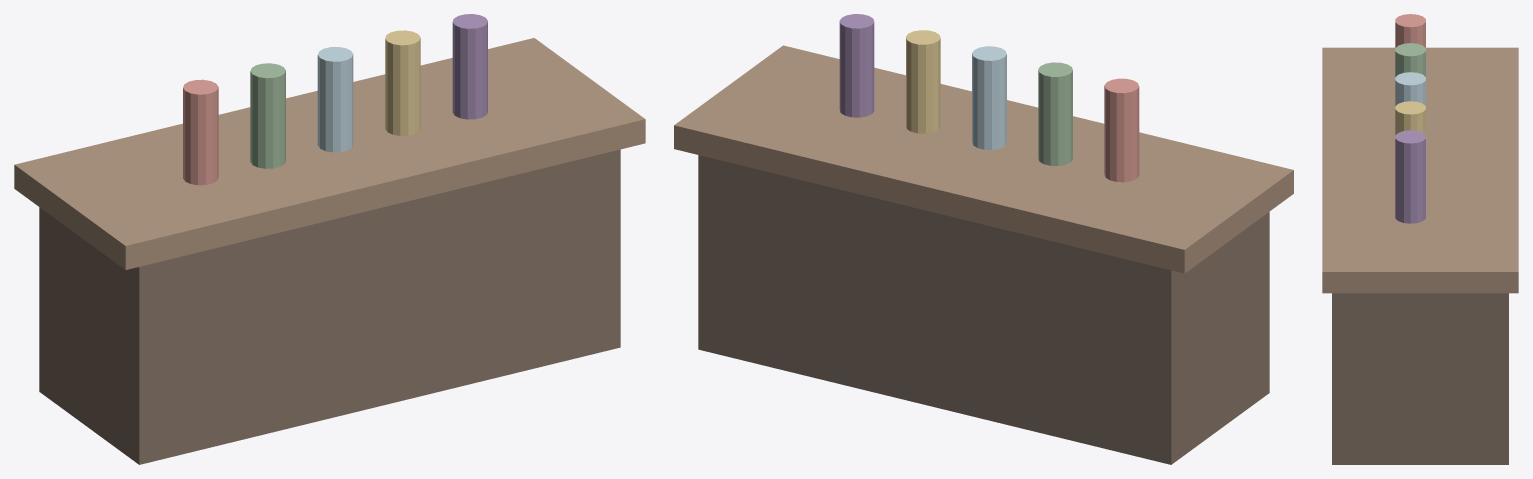
The model's file is mixology_bar.glb.
3 views of the same model, side by side, from view 1: azimuth 30°, elevation 25°; view 2: azimuth 150°, elevation 25°; view 3: azimuth 270°, elevation 25° (orthographic). The views are drawn at different scales.
Visible parts, largest first — view 1: part_00, part_01, part_04, part_05, part_02, part_03, part_06; view 2: part_00, part_01, part_02, part_06, part_04, part_03, part_05; view 3: part_01, part_00, part_06, part_04, part_02, part_03, part_05.
Boxes of the visible parts, x1=… form: part_00: x1=39, y1=149, x2=620, y2=464; part_01: x1=14, y1=38, x2=645, y2=269; part_04: x1=317, y1=47, x2=353, y2=152; part_05: x1=385, y1=30, x2=420, y2=135; part_02: x1=183, y1=79, x2=218, y2=185; part_03: x1=250, y1=63, x2=285, y2=168; part_06: x1=452, y1=14, x2=487, y2=119; part_00: x1=698, y1=155, x2=1269, y2=464; part_01: x1=674, y1=45, x2=1293, y2=273; part_02: x1=1104, y1=78, x2=1139, y2=182; part_06: x1=839, y1=14, x2=874, y2=117; part_04: x1=972, y1=46, x2=1006, y2=149; part_03: x1=1038, y1=62, x2=1072, y2=165; part_05: x1=906, y1=30, x2=940, y2=133; part_01: x1=1322, y1=47, x2=1518, y2=293; part_00: x1=1332, y1=293, x2=1508, y2=464; part_06: x1=1395, y1=130, x2=1425, y2=223; part_04: x1=1395, y1=72, x2=1425, y2=105; part_02: x1=1395, y1=14, x2=1425, y2=47; part_03: x1=1395, y1=43, x2=1425, y2=76; part_05: x1=1395, y1=101, x2=1425, y2=134.
Size of the model in its own units: 2.7 by 1.58 by 1.
